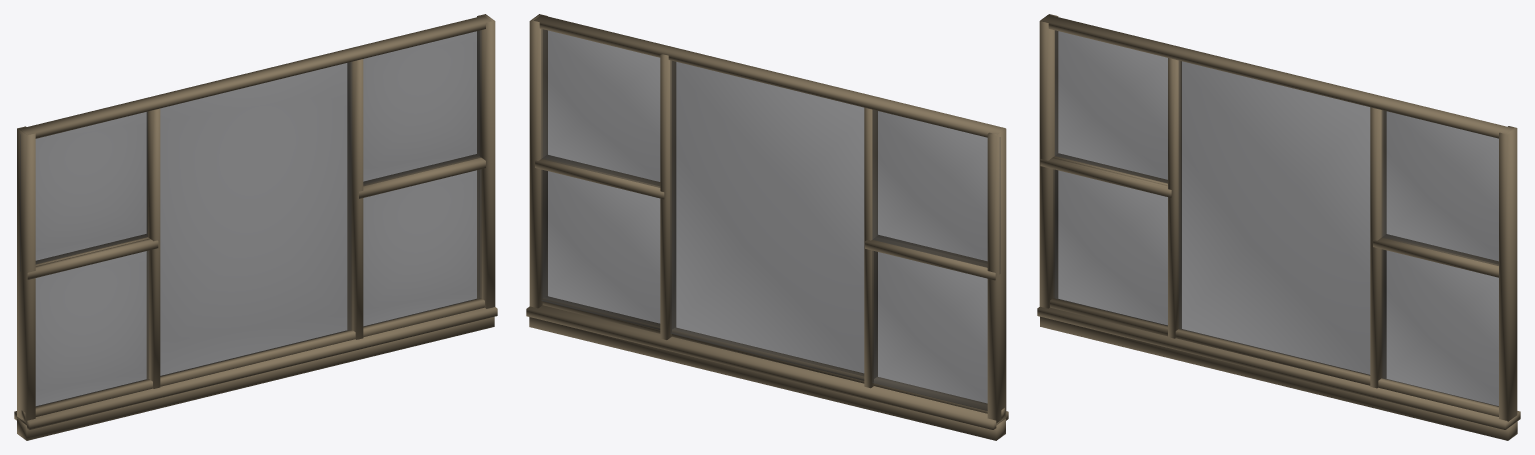
File: rectangularFivePanesWindow.obj
3 views of the same model, side by side, from view 1: azimuth 30°, elevation 25°; view 2: azimuth 150°, elevation 25°; view 3: azimuth 330°, elevation 25° (orthographic).
Parts seen in each view (by area): view 1: sweethome3d_window_pane.004, sweethome3d_window_pane_4.001, sweethome3d_window_pane_3.001, sweethome3d_window_pane_2.001, sweethome3d_window_pane_1.002, Cube_2.001, Cube_5.003, Cube_6.001, Cube_6_1, Cube_6_2, Cube_4.004, Cube_3.004 (+3 smaller); view 2: sweethome3d_window_pane.004, sweethome3d_window_pane_4.001, sweethome3d_window_pane_3.001, sweethome3d_window_pane_2.001, sweethome3d_window_pane_1.002, Cube_5.003, Cube_2.001, Cube_6.001, Cube_6_1, Cube_6_2, Cube_4.004, Cube_3.004 (+3 smaller); view 3: sweethome3d_window_pane.004, sweethome3d_window_pane_4.001, sweethome3d_window_pane_3.001, sweethome3d_window_pane_2.001, sweethome3d_window_pane_1.002, Cube_2.001, Cube_5.003, Cube_6_1, Cube_6_2, Cube_6.001, Cube_4.004, Cube_3.004 (+3 smaller).
Part boxes in pixels (x1,y1,x2,y2): sweethome3d_window_pane.004: (160, 62, 351, 376); sweethome3d_window_pane_4.001: (363, 169, 481, 326); sweethome3d_window_pane_3.001: (363, 30, 481, 185); sweethome3d_window_pane_2.001: (35, 251, 148, 406); sweethome3d_window_pane_1.002: (20, 111, 147, 271); Cube_2.001: (19, 15, 491, 138); Cube_5.003: (14, 299, 497, 429); Cube_6.001: (17, 126, 35, 423); Cube_6_1: (477, 14, 495, 308); Cube_6_2: (17, 316, 494, 440); Cube_4.004: (21, 298, 484, 420); Cube_3.004: (347, 59, 363, 339); sweethome3d_window_pane.004: (670, 60, 864, 380); sweethome3d_window_pane_4.001: (541, 170, 660, 329); sweethome3d_window_pane_3.001: (541, 29, 660, 187); sweethome3d_window_pane_2.001: (872, 251, 987, 410); sweethome3d_window_pane_1.002: (872, 110, 1000, 273); Cube_5.003: (526, 305, 1008, 429); Cube_2.001: (534, 15, 1005, 137); Cube_6.001: (987, 129, 1006, 423); Cube_6_1: (529, 14, 547, 308); Cube_6_2: (529, 317, 1005, 440); Cube_4.004: (542, 296, 1004, 418); Cube_3.004: (660, 54, 675, 339); sweethome3d_window_pane.004: (1179, 61, 1370, 375); sweethome3d_window_pane_4.001: (1382, 249, 1498, 406); sweethome3d_window_pane_3.001: (1382, 110, 1498, 265); sweethome3d_window_pane_2.001: (1053, 169, 1167, 325); sweethome3d_window_pane_1.002: (1055, 30, 1167, 183); Cube_2.001: (1040, 14, 1513, 138); Cube_5.003: (1037, 299, 1520, 429); Cube_6_1: (1499, 126, 1517, 421); Cube_6_2: (1040, 316, 1517, 440); Cube_6.001: (1039, 14, 1058, 308); Cube_4.004: (1050, 298, 1498, 416); Cube_3.004: (1370, 107, 1386, 388).
Bounding box in the file's own units: 10.3 × 6.44 × 0.5796.
